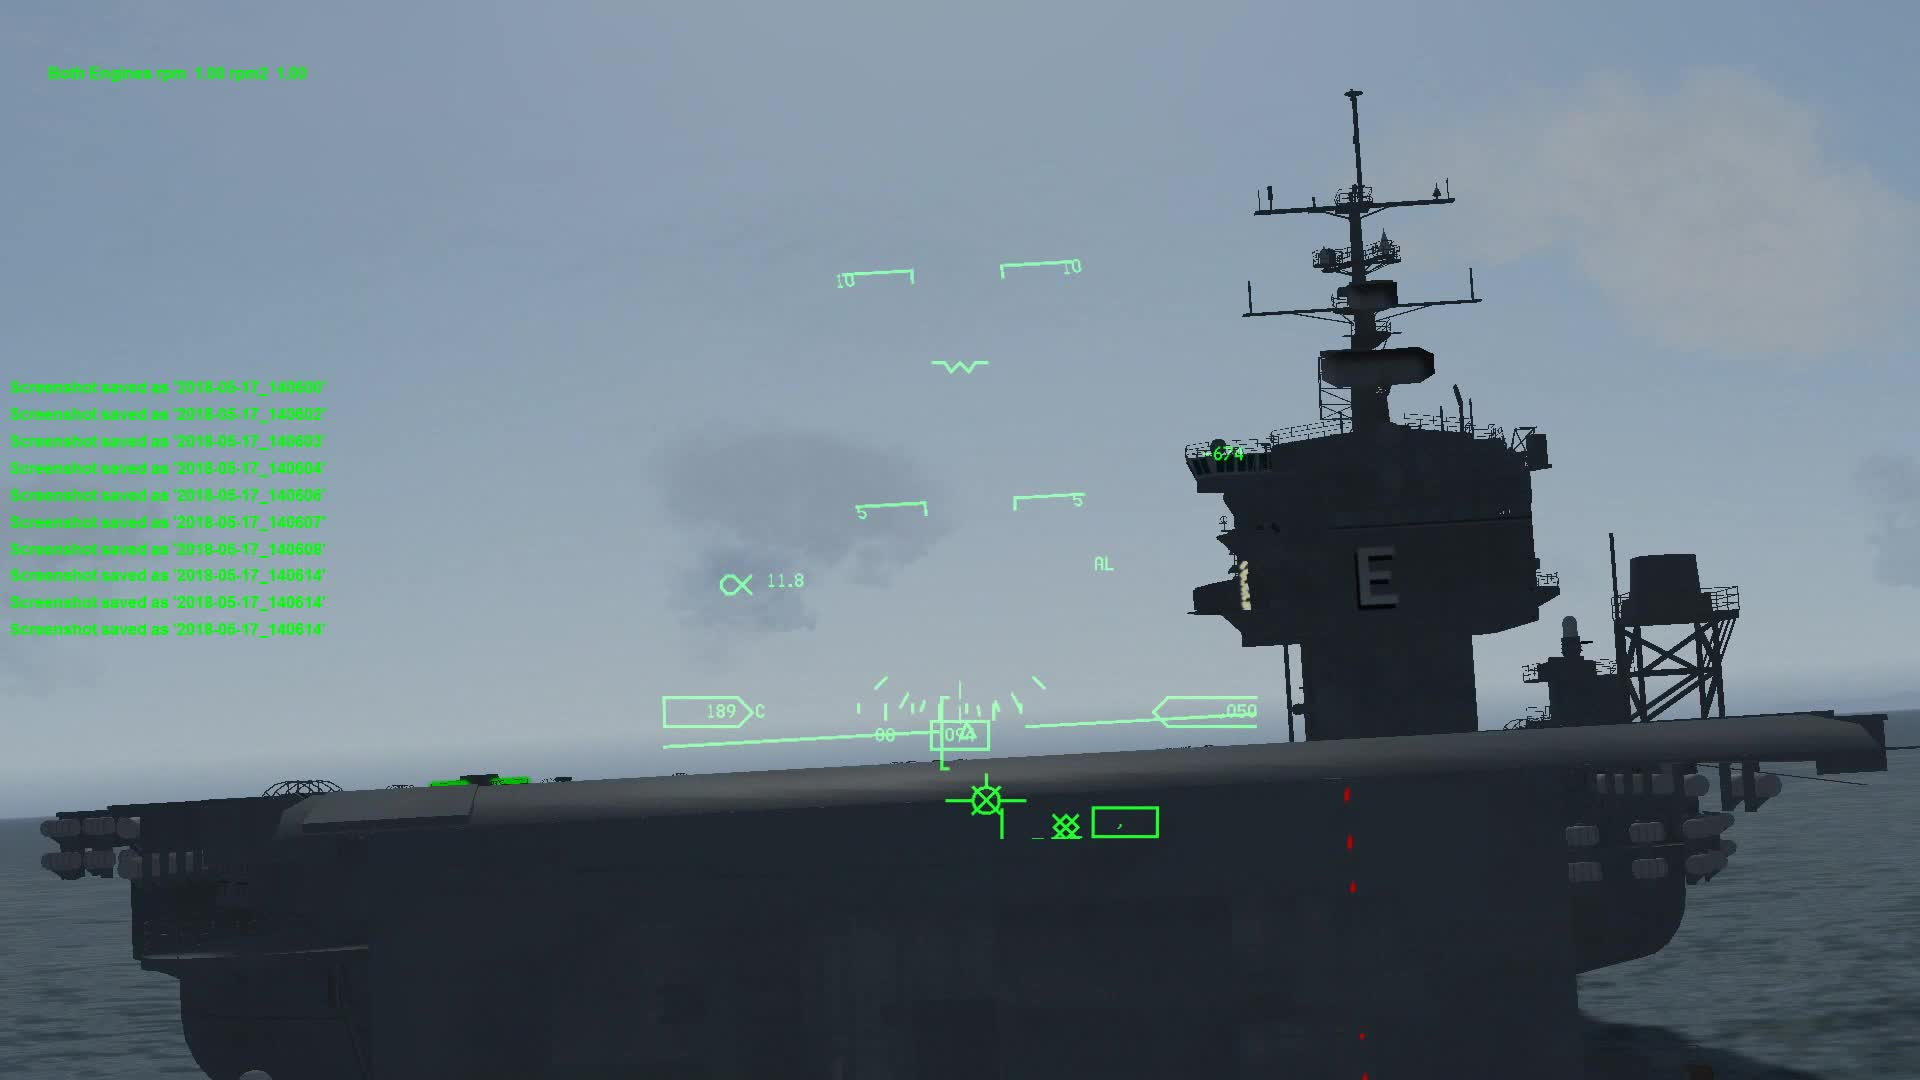speed vector: (945, 766, 1034, 816)
